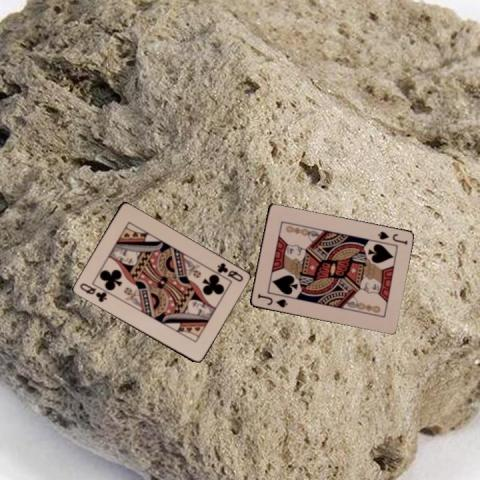Js: (374, 228, 408, 246), (255, 291, 288, 309)
Qc: (77, 280, 108, 304), (214, 260, 245, 283)
